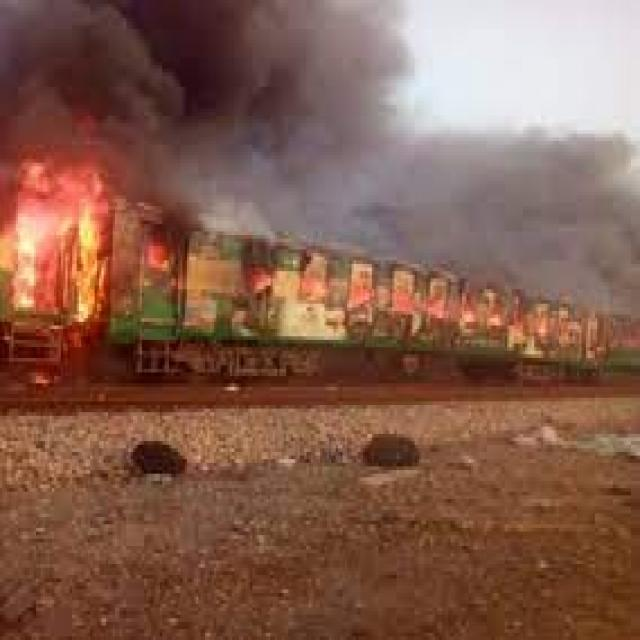fire: (9, 166, 106, 322), (142, 238, 178, 274), (250, 264, 275, 300), (394, 289, 420, 315), (426, 297, 446, 318), (356, 293, 374, 311)
smoke: (176, 133, 640, 314), (2, 4, 388, 166)
